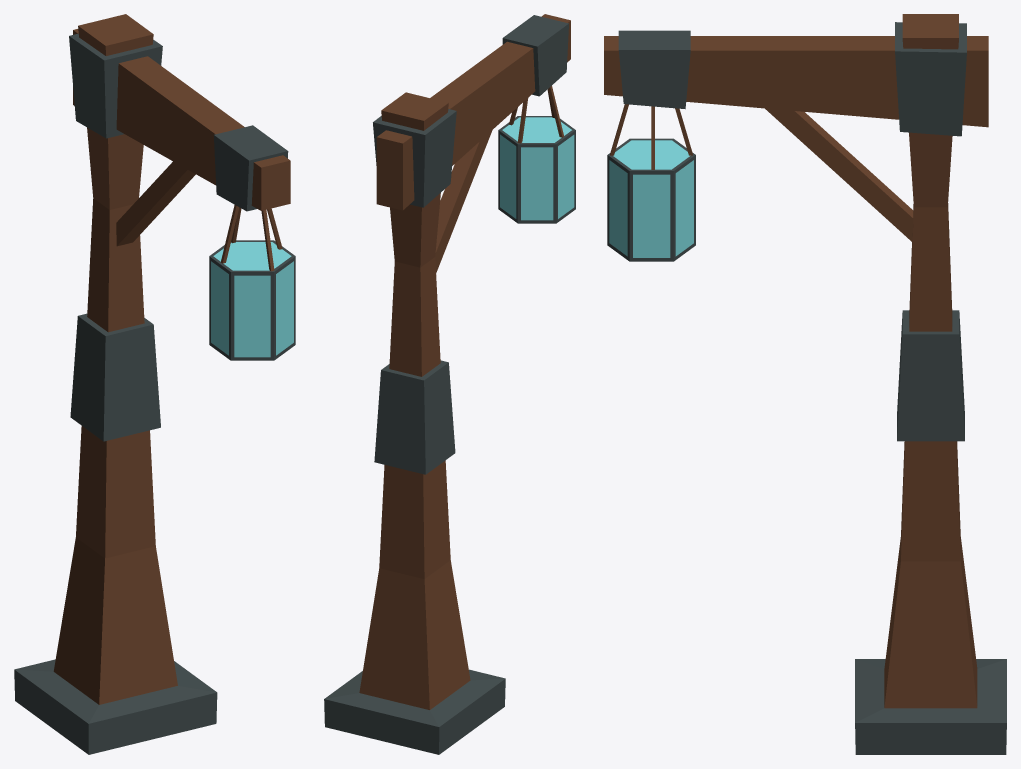
The model's file is Lamp_1_Blue.fbx.
The picture shows the model from 3 angles, left to right: view 1: azimuth 30°, elevation 25°; view 2: azimuth 150°, elevation 25°; view 3: azimuth 270°, elevation 25°; orthographic projection. The views are drawn at different scales.
Parts seen in each view (by area): view 1: Lamp_1_Blue; view 2: Lamp_1_Blue; view 3: Lamp_1_Blue.
Part boxes in pixels (x1,y1,x2,y2): Lamp_1_Blue: (14,14,295,754); Lamp_1_Blue: (324,14,575,754); Lamp_1_Blue: (604,14,1006,754).
Bounding box in the file's own units: 39.51 × 200 × 105.
